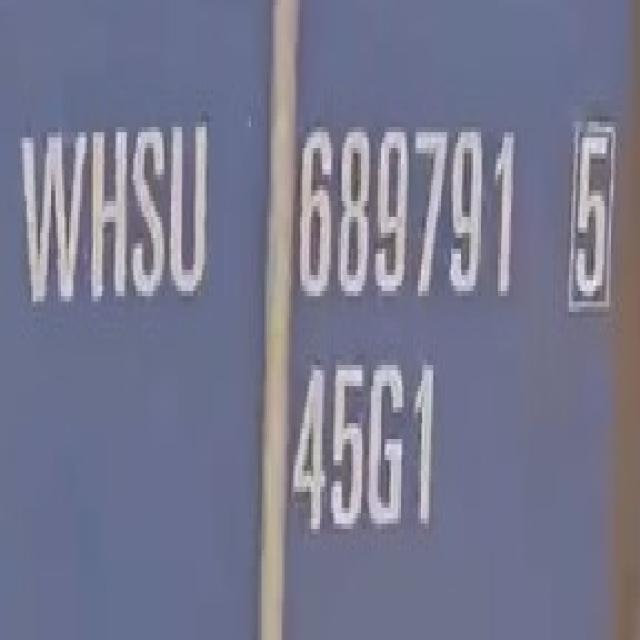dv: (557, 106, 619, 323)
owner: (9, 106, 218, 320)
serial: (292, 114, 525, 312)
size: (278, 340, 450, 553)
